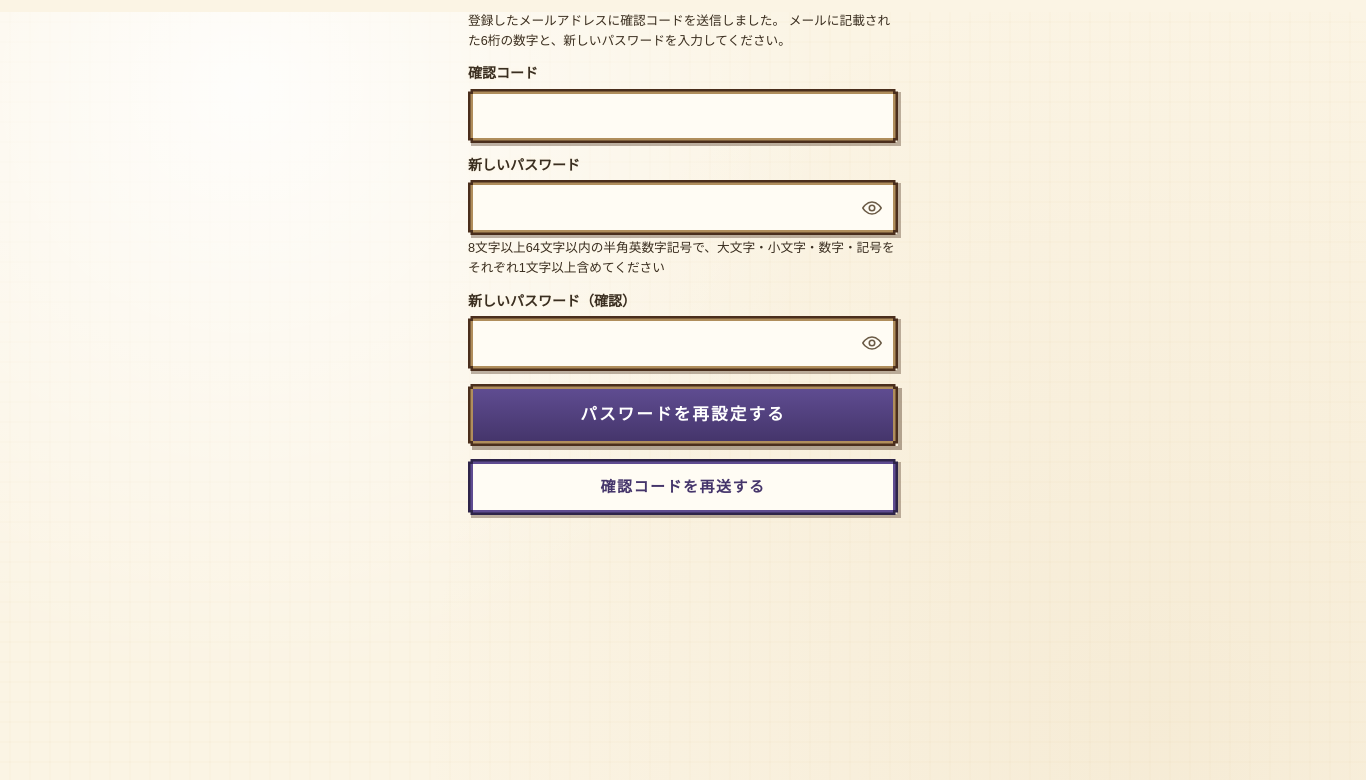
PasswordResetConfirmForm › 7文字の新しいパスワードは送信しない
This screenshot has width=1366, height=780.
In the field labelled "確認コード": (683, 116) [468,89,898,143], type "123456"
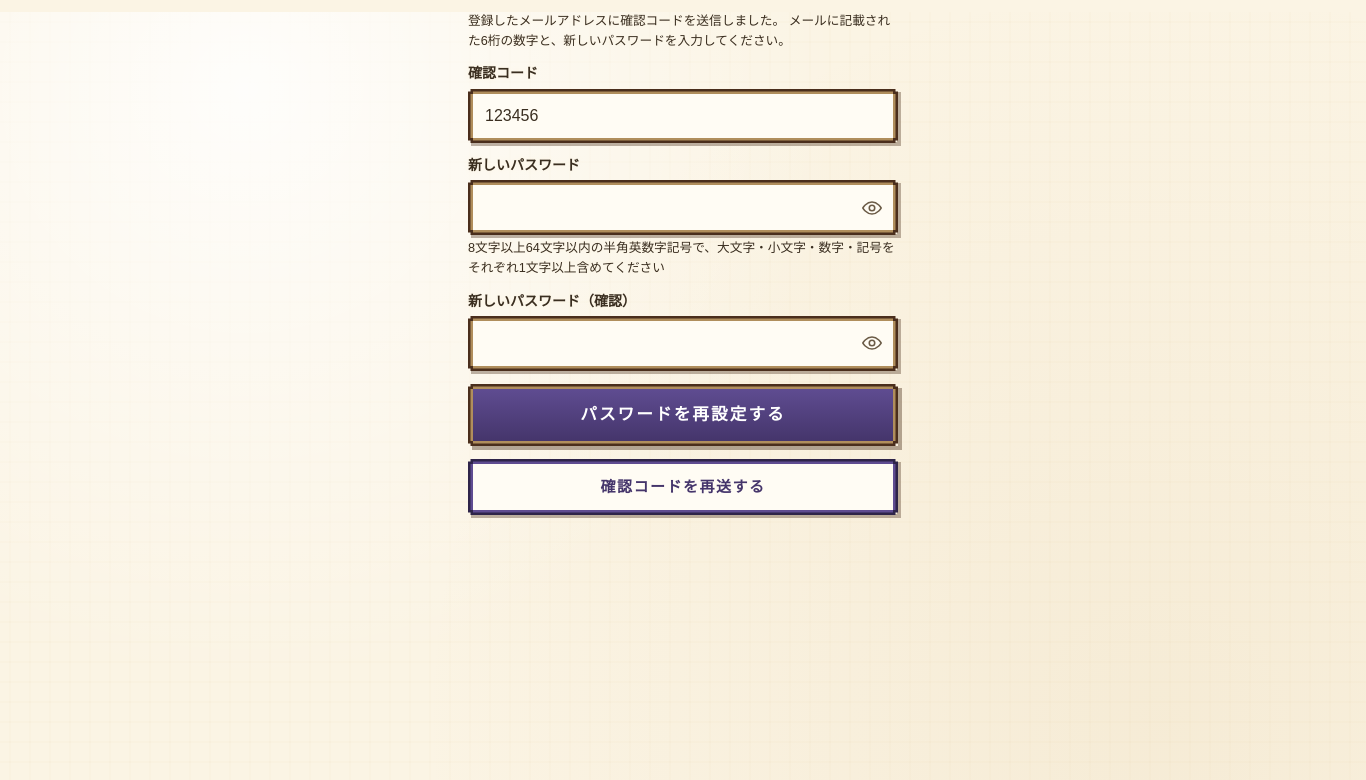
In the password field labelled "新しいパスワード": (683, 208) [468,180,898,235], type "Abcdef1"
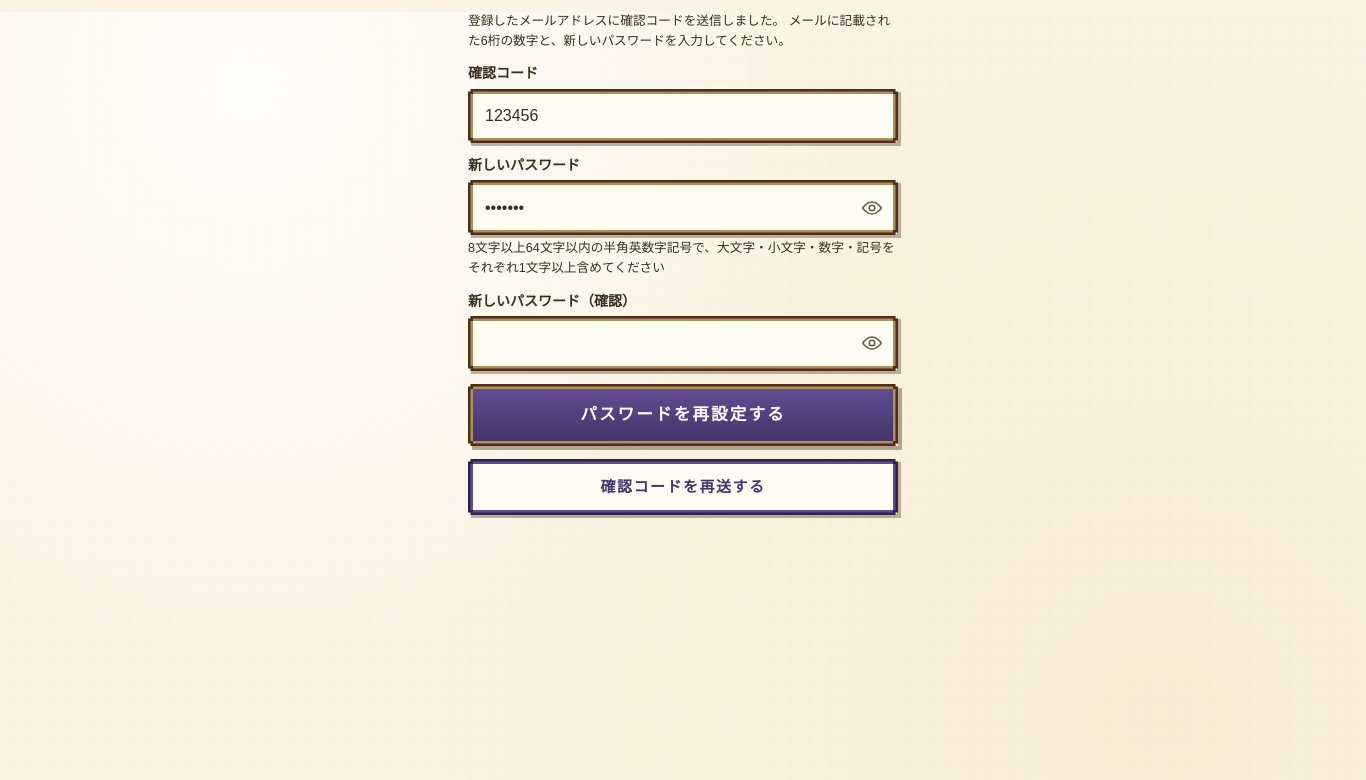
In the password field labelled "新しいパスワード（確認）": (683, 343) [468,316,898,371], type "Abcdef1"
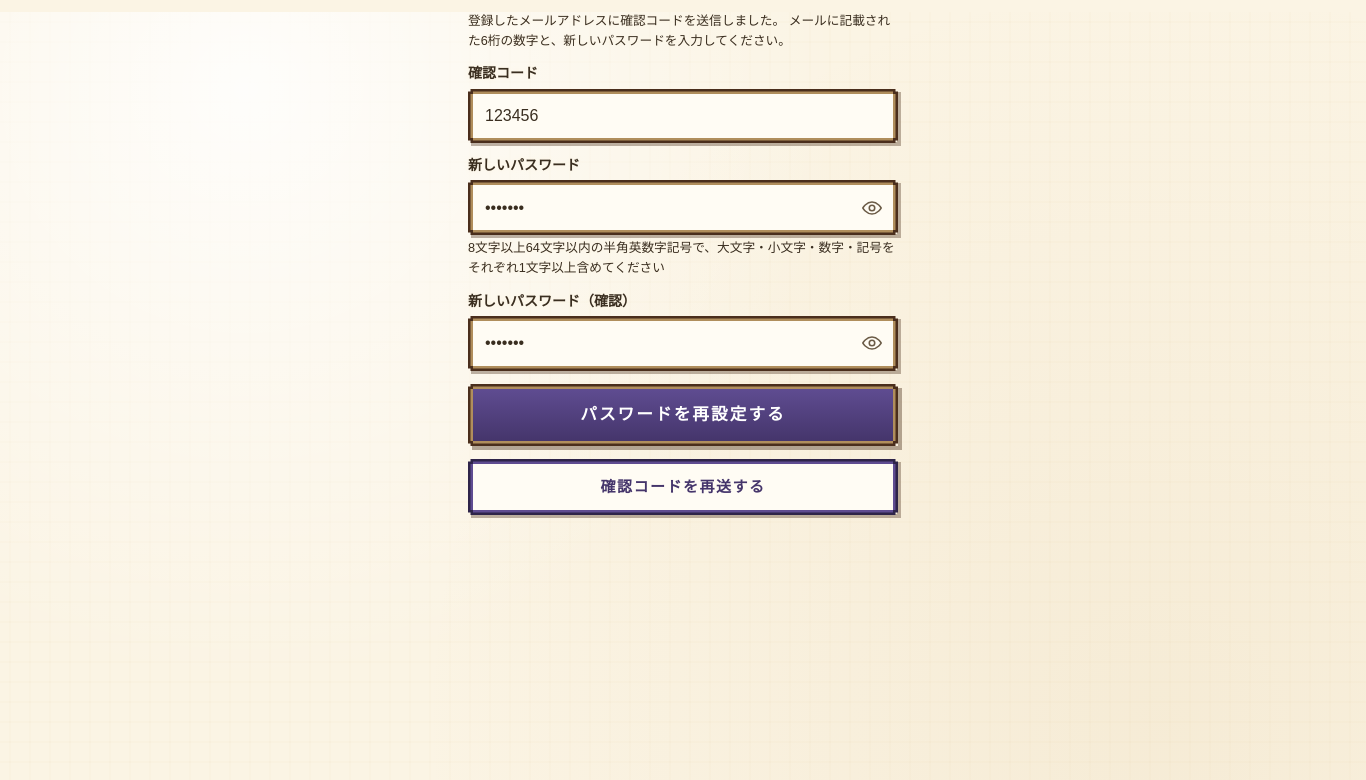
Submit the form, box [468,12,898,515]
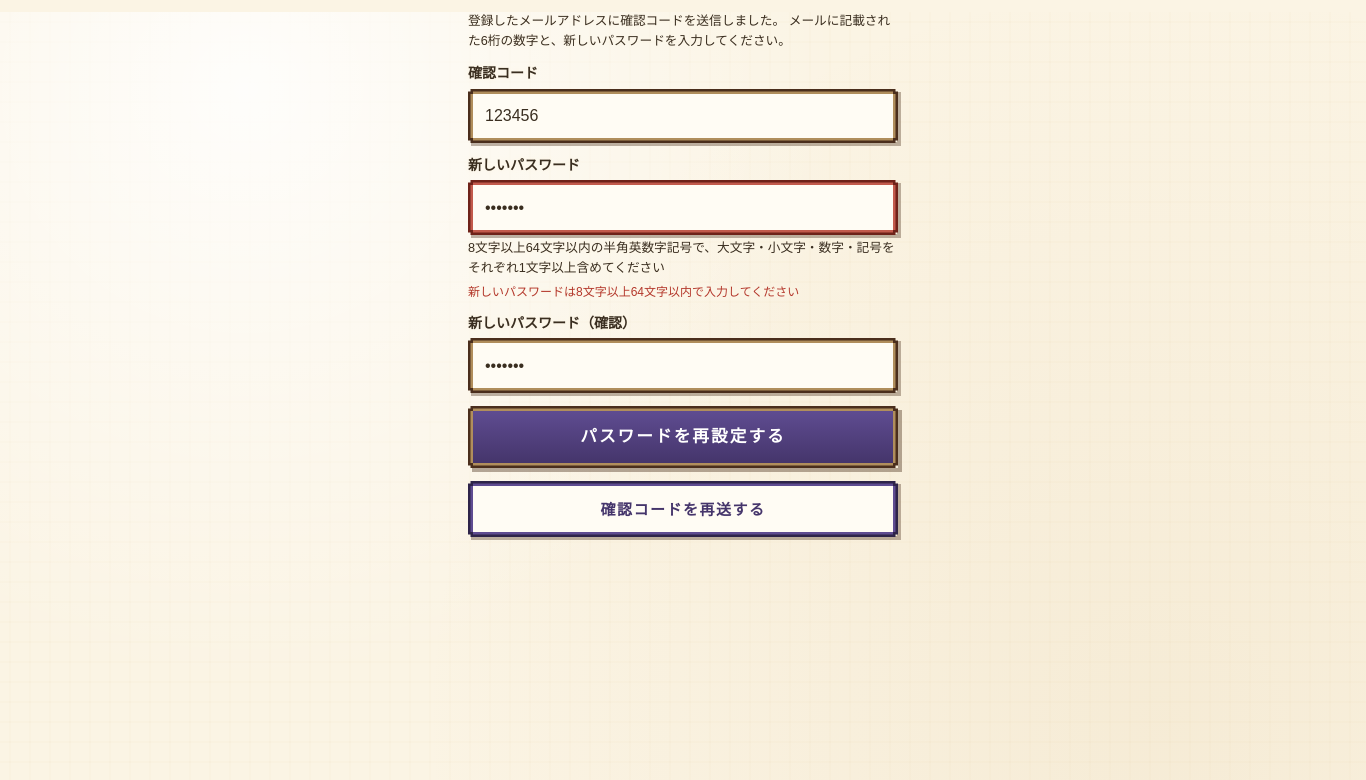
Expected: the text "新しいパスワードは8文字以上64文字以内で入力してください" is shown, [468,285,799,299]
